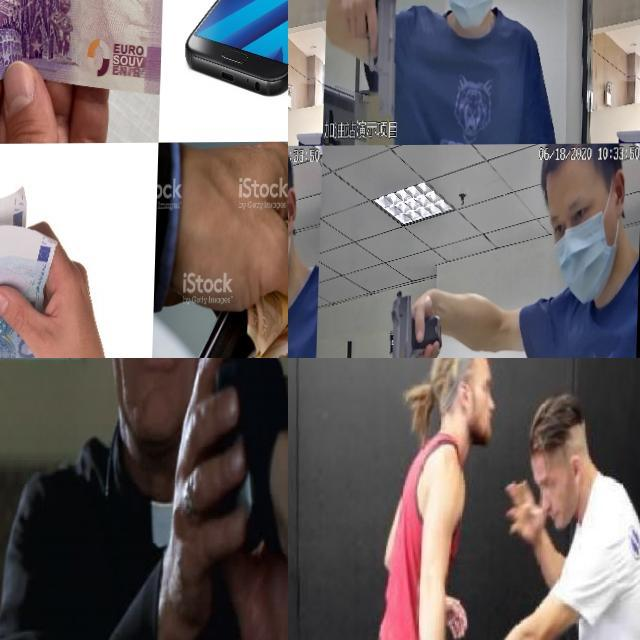gun-knife-thesis - v11 Yolov5 augmented: (176, 358, 288, 582), (338, 0, 400, 122), (288, 0, 324, 146), (390, 289, 445, 358), (288, 291, 314, 358)
